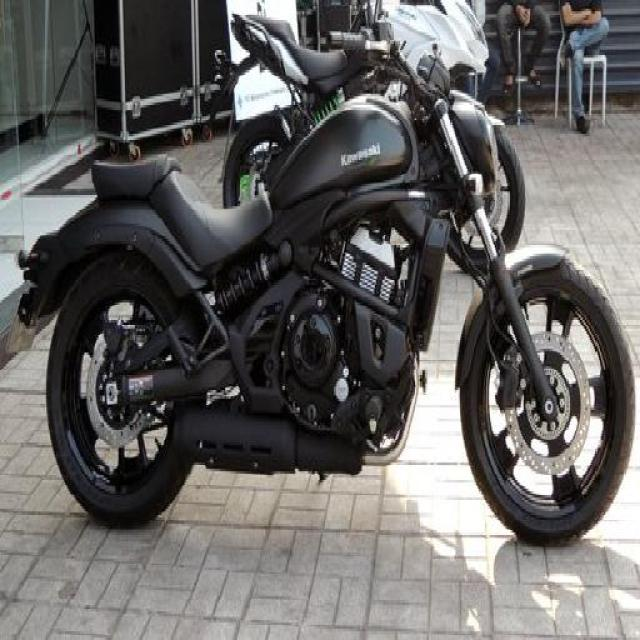All: (20, 45, 640, 550)
Head: (408, 88, 510, 222)
Tail: (45, 155, 127, 257)
